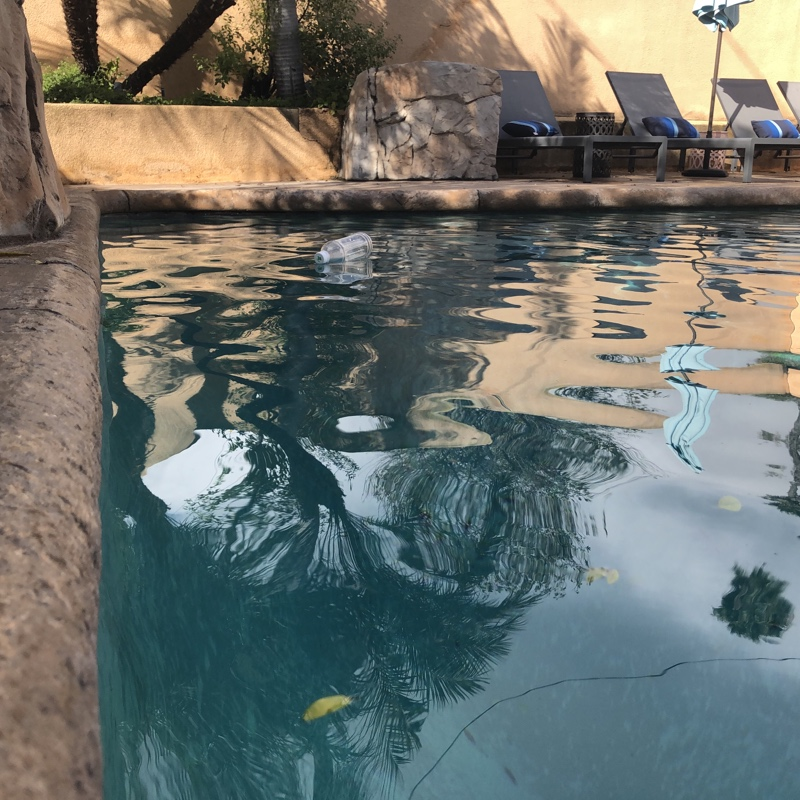Plastic Bottle: (313, 227, 375, 271)
